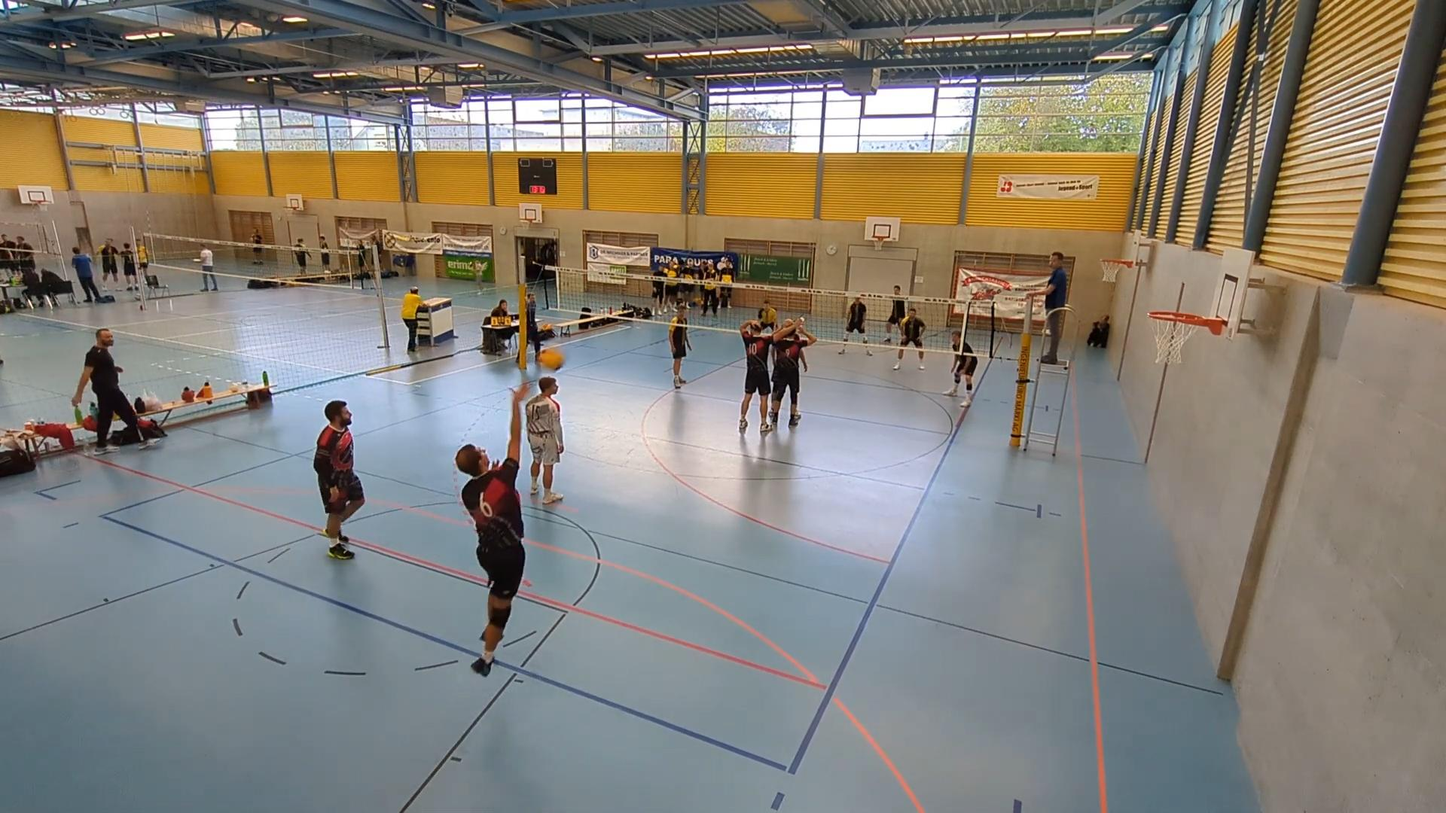Player: (313, 400, 365, 559), (739, 320, 794, 433), (769, 318, 816, 427), (525, 376, 563, 504), (944, 330, 978, 406), (892, 308, 926, 370), (839, 296, 872, 355), (668, 303, 690, 388), (884, 285, 906, 343), (758, 298, 776, 330)
Serve: (446, 374, 535, 680)
ball: (533, 344, 567, 371)
